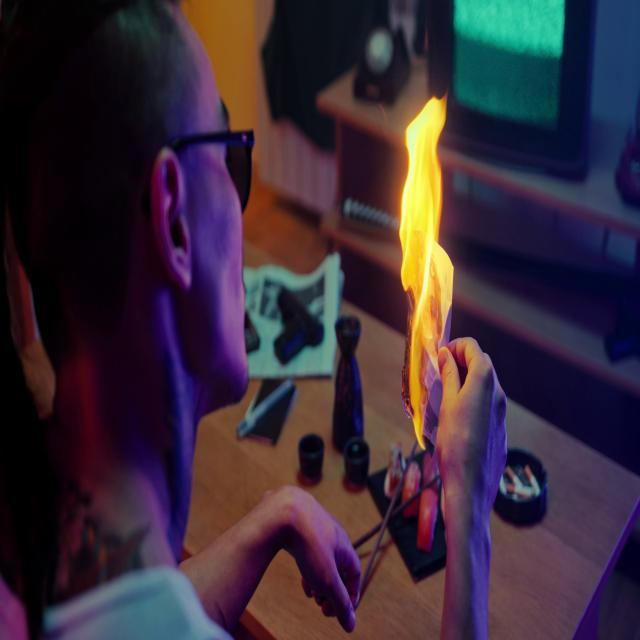Fire: (391, 81, 460, 463)
